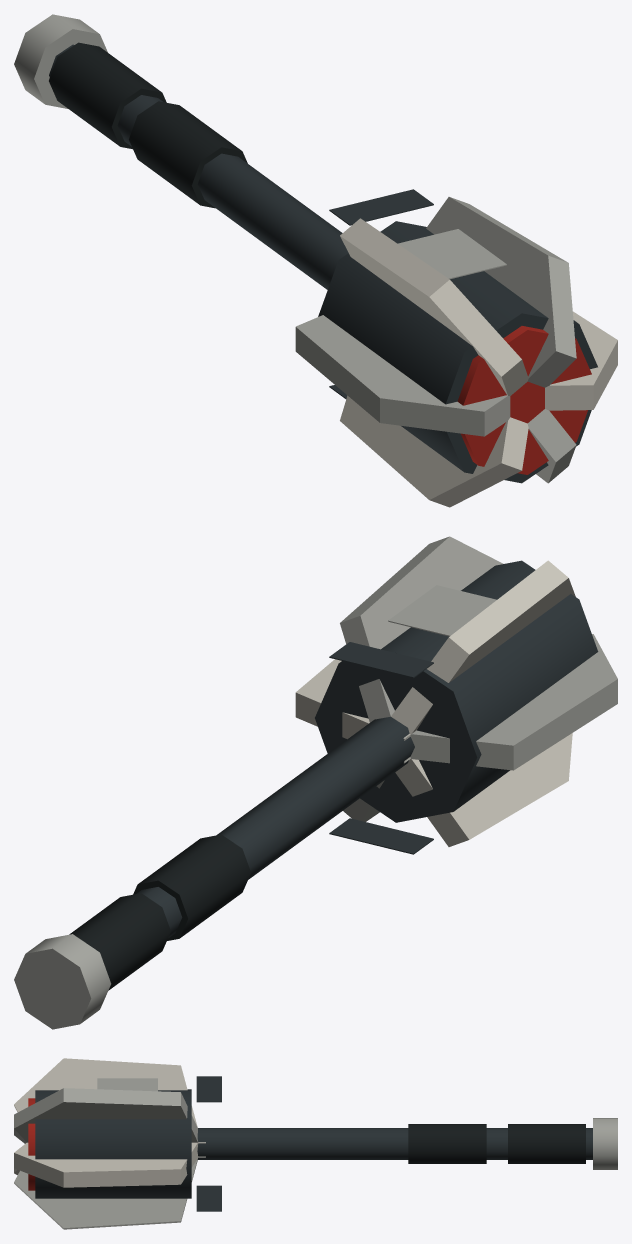
The picture shows the model from 3 angles, top to bottom: view 1: azimuth 30°, elevation 25°; view 2: azimuth 150°, elevation 25°; view 3: azimuth 270°, elevation 25°; orthographic projection. The views are drawn at different scales.
Visible parts, largest first — view 1: weapon-shock-mace-painted; view 2: weapon-shock-mace-painted; view 3: weapon-shock-mace-painted.
Part boxes in pixels (left/top/right/bottom): weapon-shock-mace-painted: left=14, top=14, right=617, bottom=507; weapon-shock-mace-painted: left=14, top=536, right=617, bottom=1029; weapon-shock-mace-painted: left=14, top=1058, right=617, bottom=1229.
Size of the model in its own units: 1.26 by 1.16 by 4.47.
